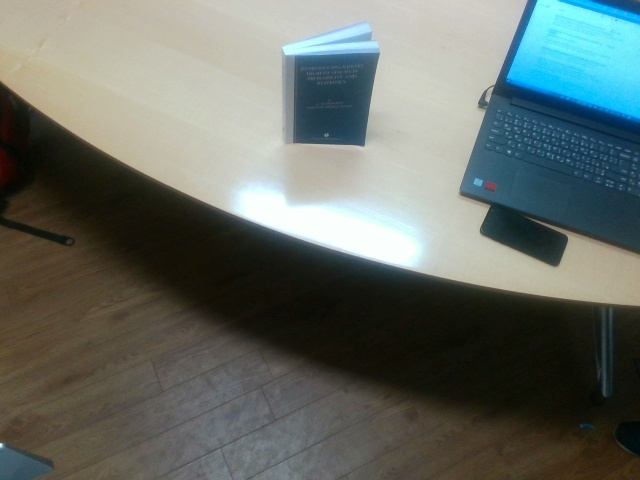book: (284, 24, 380, 148)
